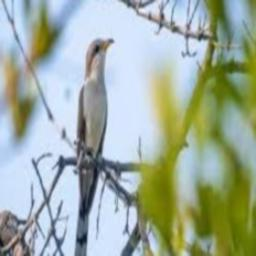Cuckoo: (74, 37, 115, 256)
